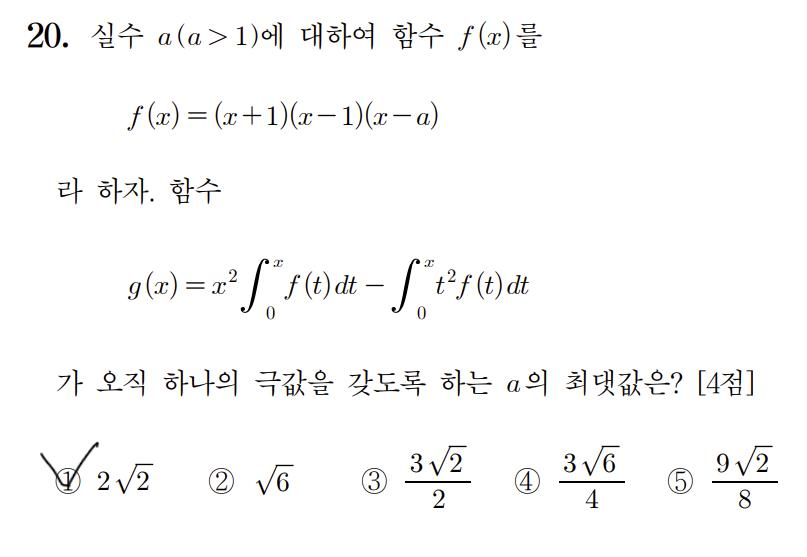1: (38, 442, 100, 501)
paper: (53, 465, 83, 496), (206, 466, 236, 497), (359, 466, 389, 497), (513, 466, 543, 497), (665, 466, 695, 497)
